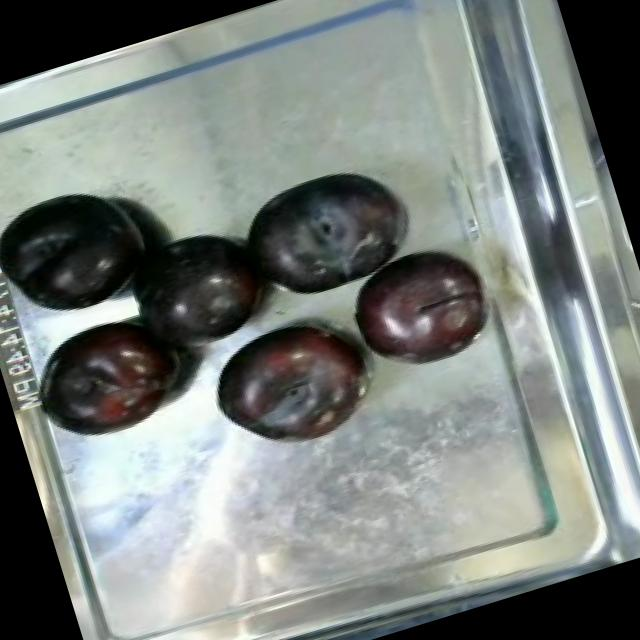Fruit: (189, 291, 396, 474), (220, 144, 424, 314), (22, 291, 208, 458), (330, 225, 509, 388), (107, 208, 286, 370), (0, 167, 167, 333)
